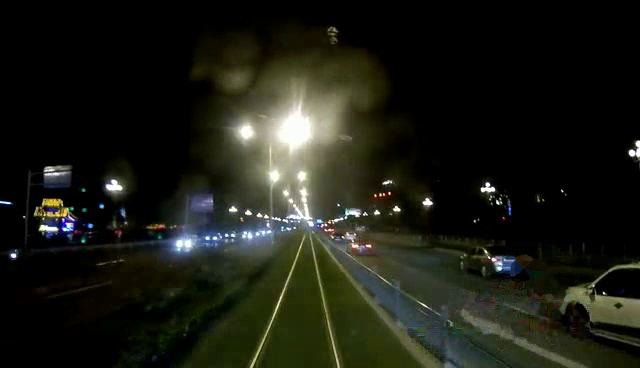car: (561, 260, 640, 348)
